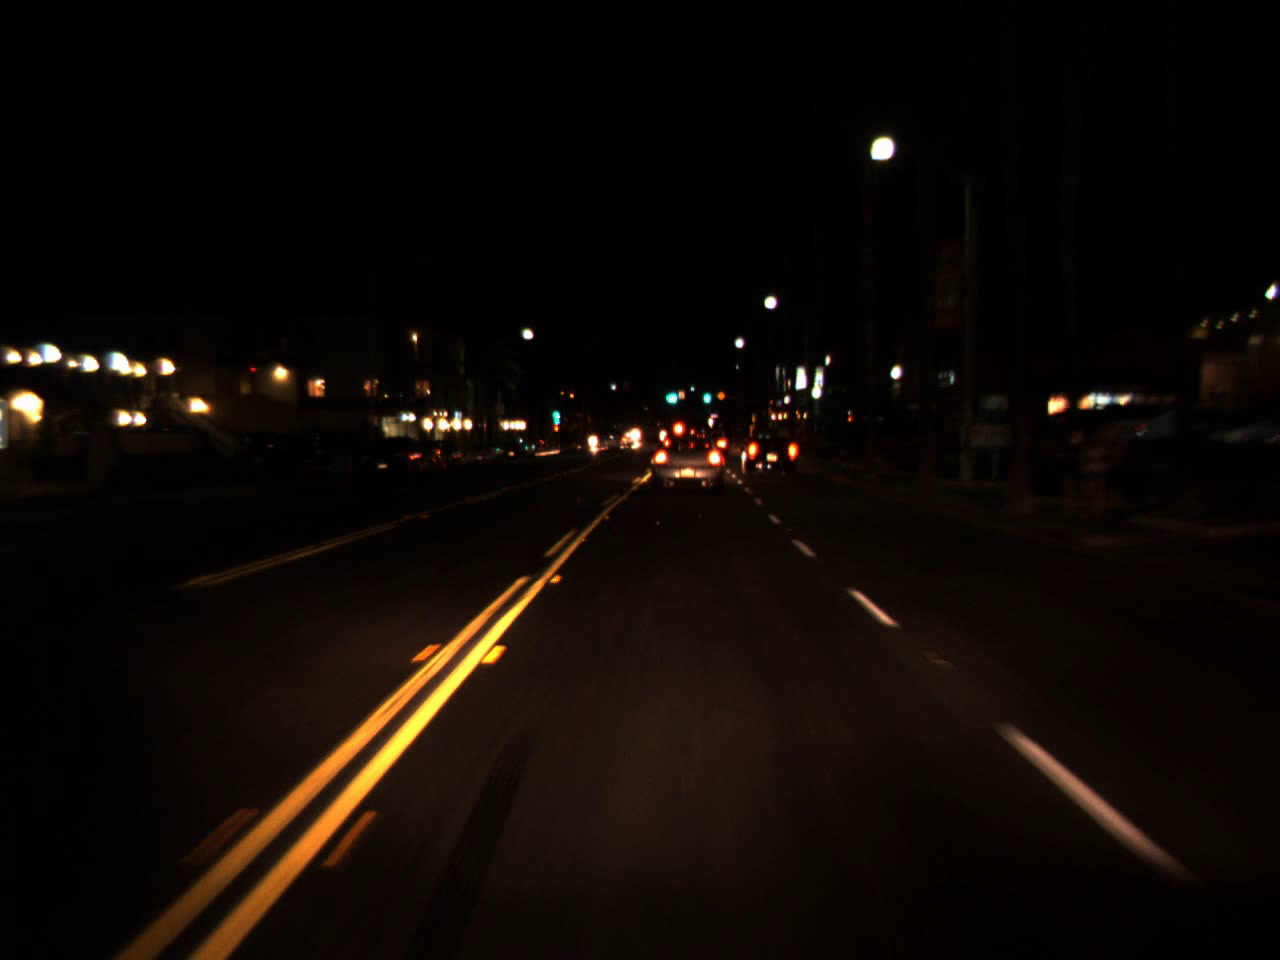go: (661, 380, 679, 407), (550, 395, 560, 428), (700, 382, 712, 406)
